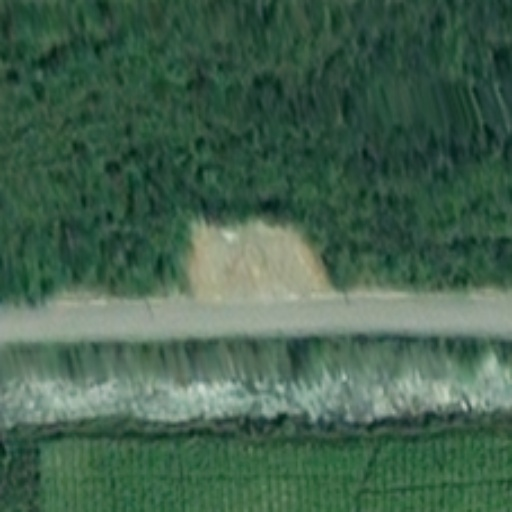landslide: (187, 216, 335, 301)
